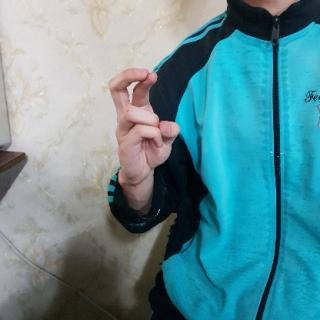ZAY: (105, 66, 184, 194)
